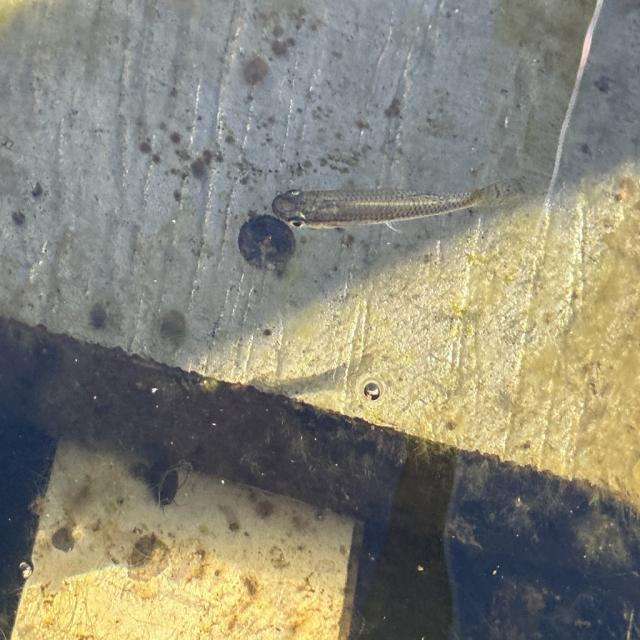Sivrisinek Baligi: (262, 174, 528, 233)
